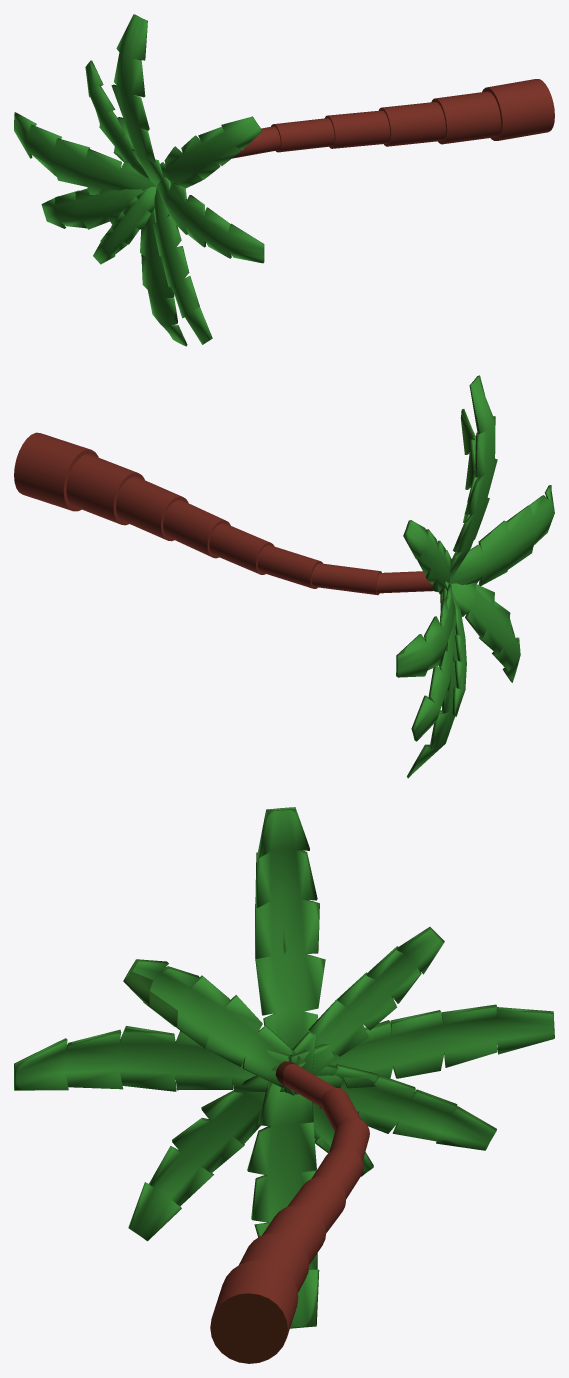
Rendered from palmera.fbx.
3 renders of one model, top to bottom at view 1: azimuth 30°, elevation 25°; view 2: azimuth 150°, elevation 25°; view 3: azimuth 270°, elevation 25°, orthographic. The views are drawn at different scales.
Parts seen in each view (by area): view 1: Cylinder; view 2: Cylinder; view 3: Cylinder.
Part boxes in pixels (left/top/right/bottom): Cylinder: left=14, top=14, right=554, bottom=346; Cylinder: left=14, top=375, right=554, bottom=778; Cylinder: left=14, top=807, right=554, bottom=1363.
Size of the model in its own units: 1814 by 1378 by 1386.
Materials: 2 (2 with a texture image).
